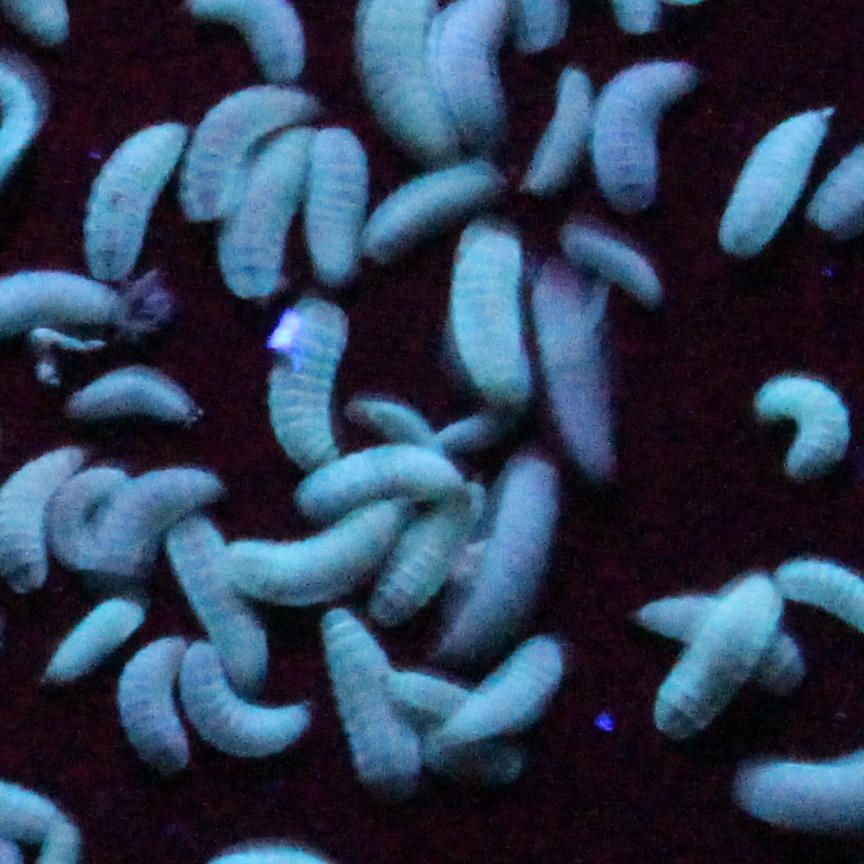larve: (650, 569, 785, 737), (321, 605, 430, 801), (162, 512, 275, 694), (453, 460, 546, 651), (535, 267, 621, 471), (175, 639, 312, 764), (187, 83, 314, 214), (432, 635, 569, 755), (587, 51, 685, 217), (219, 121, 314, 292), (87, 121, 187, 280), (225, 508, 391, 601), (448, 230, 530, 410), (96, 471, 239, 574), (630, 585, 794, 674), (360, 155, 496, 262), (373, 503, 505, 605), (266, 287, 339, 467), (121, 624, 205, 769), (755, 371, 860, 476), (300, 114, 364, 285), (298, 446, 469, 510), (44, 464, 130, 583), (41, 599, 146, 685), (75, 360, 200, 428), (523, 69, 589, 183), (569, 228, 666, 301), (360, 394, 446, 453), (389, 674, 475, 712)
